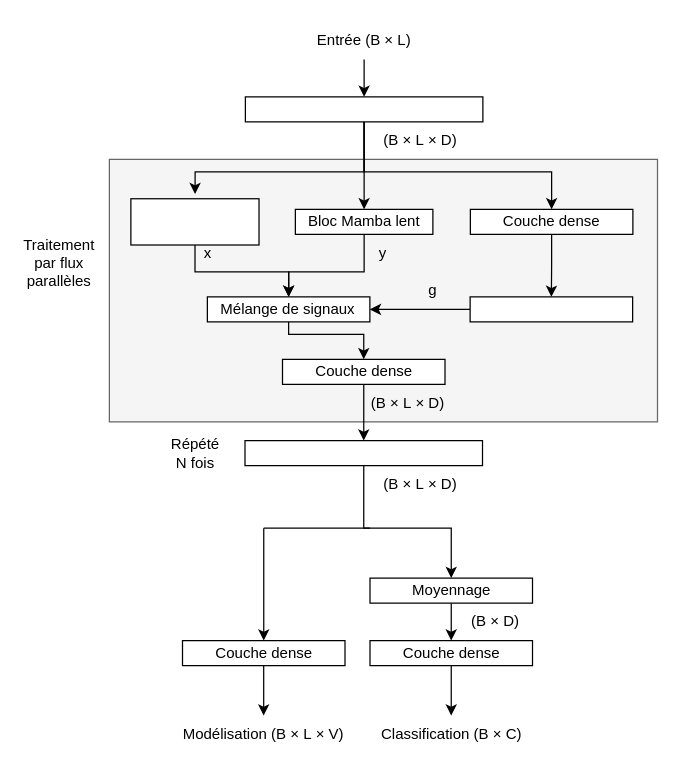
The diagram is 679 pixels wide and 774 high, and some of its shapes have lost their labels. Each missing label, with the box of its shape:
Bloc Mamba: (244, 439, 482, 466)
Bloc Mamba rapide: (130, 198, 259, 245)
Fonction sigmoïde: (469, 296, 633, 322)
Plongement: (244, 96, 483, 122)
